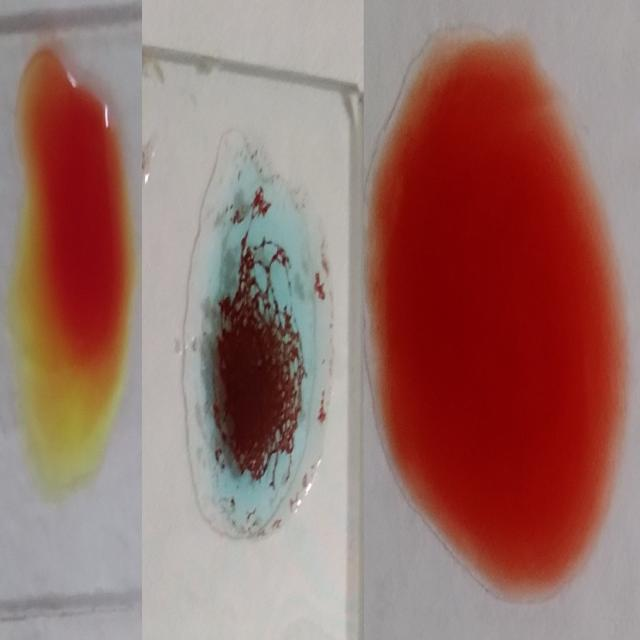A: (185, 137, 322, 546)
